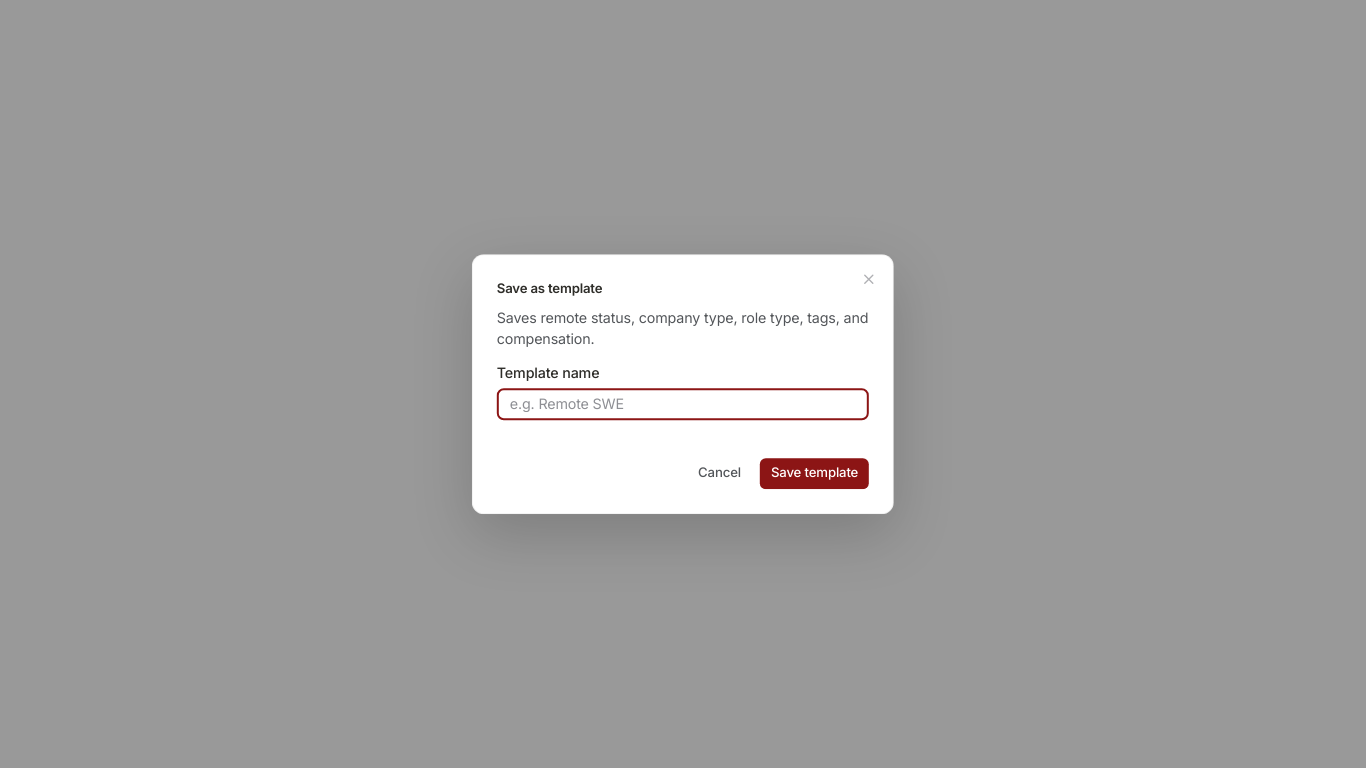
TemplateSaveModal › should show validation error when name is empty
This screenshot has width=1366, height=768.
Step 1. Click the button "Save template" → {"x": 815, "y": 473}, box x1=760 y1=458 x2=869 y2=489
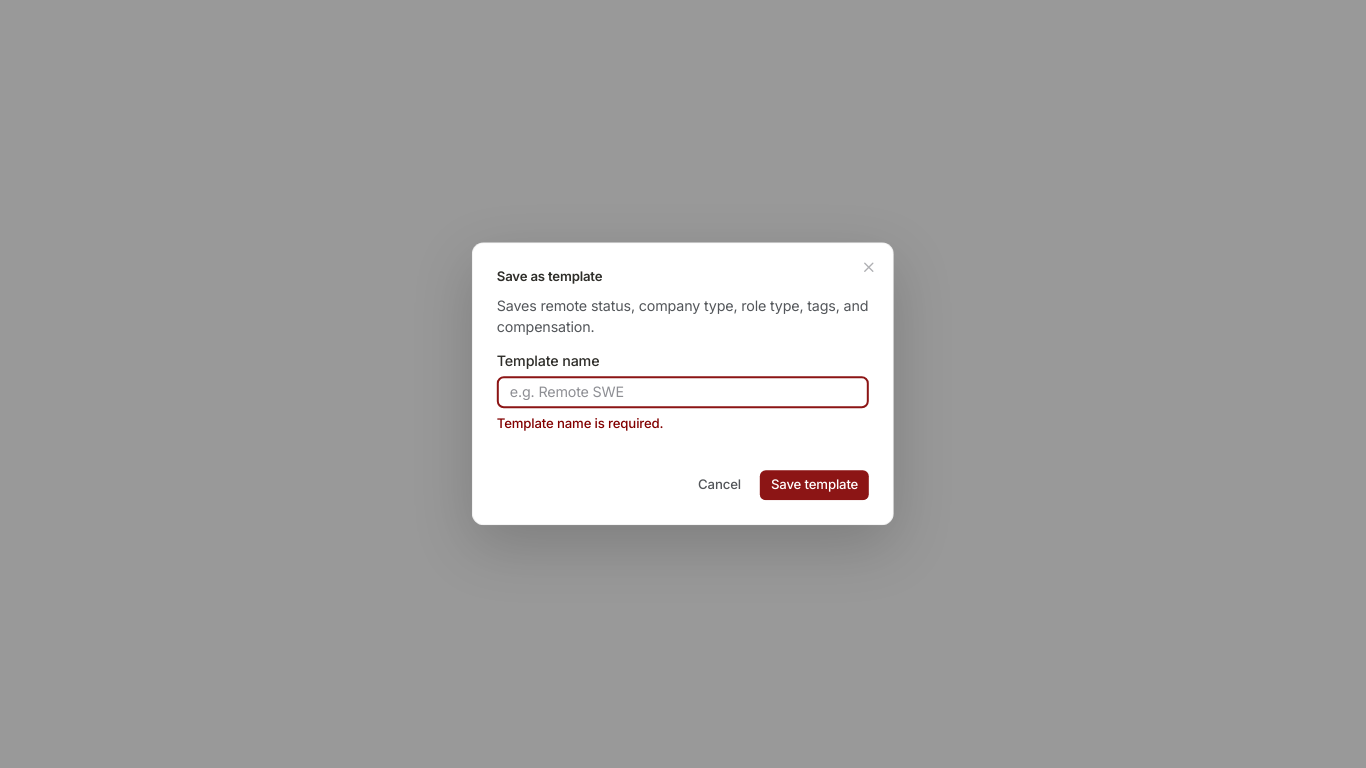
Expected: the message reads "Template name is required.", x1=497 y1=415 x2=663 y2=431
